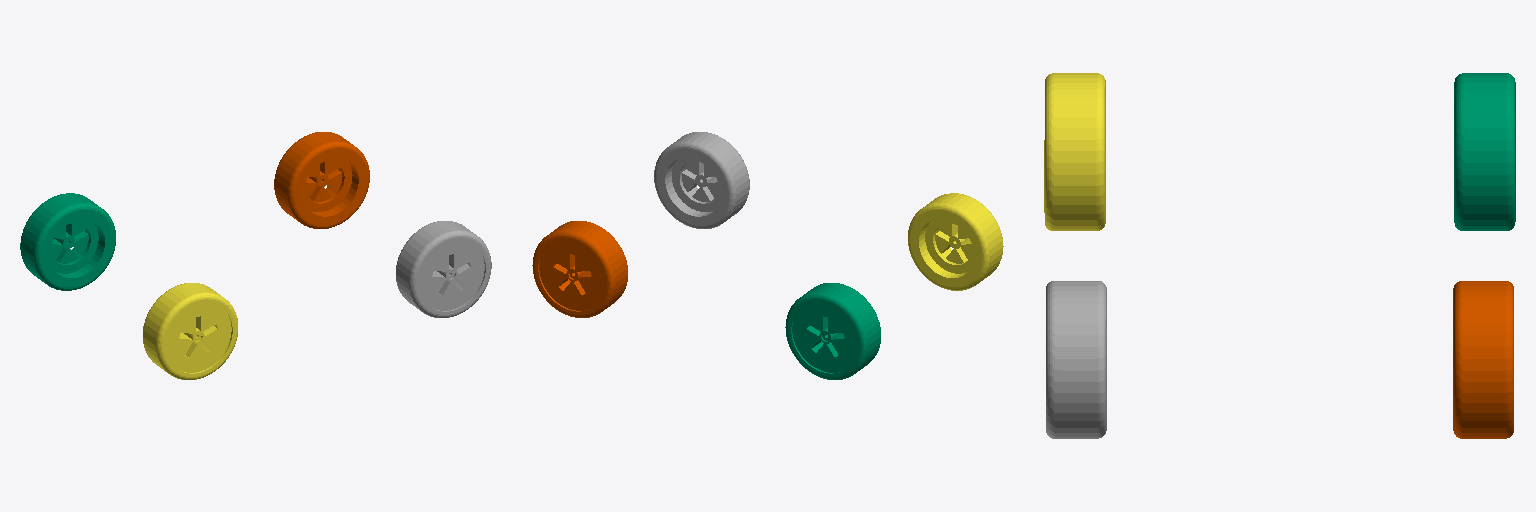
robot.urdf — macaroni:
<robot name="macaroni">

    <!--Car Links-->

    <link name="chassis">
        <inertial>
            <origin xyz="0.3 0 0"/>
            <mass value="5.0"/>
            <inertia ixx="0.10595165" ixy="-0.002487144" ixz="0.011981253" iyy="0.126271962" iyz="0.011832006" izz="0.033185337"/>
        </inertial>
        <visual>
            <origin rpy="0 0 0" xyz="0 0 0"/>
            <geometry>
                <mesh filename="package://rr_description/meshes/macaroni_car.dae"/>
            </geometry>
        </visual>
        <collision>
            <geometry>
                <mesh filename="package://rr_description/meshes/macaroni_car.dae"/>
            </geometry>
        </collision>
    </link>
    <gazebo reference="chassis">
        <material>Gazebo/Grey</material>
    </gazebo>


    <link name="back_axle">
        <inertial> <!--Null inertia-->
            <mass value="0.001"/>
            <inertia ixx="0.001" ixy="0" ixz="0" iyy="0.001" iyz="0" izz="0.001"/>
        </inertial>
    </link>

    <link name="wheel_back_left">
        <inertial>
            <origin rpy="0 0 0" xyz="0 0 0" />
            <mass value="0.1" />
            <inertia  ixx="0.000405599" ixy="0.0"  ixz="0.0"  iyy="0.000405599"  iyz="0.0"  izz="0.000518265" />
        </inertial>
        <visual>
            <origin rpy="0 0 0" xyz="0 0 0"/>
            <geometry>
                <mesh filename="package://rr_description/meshes/macaroni_wheel.dae"/>
            </geometry>
        </visual>
        <collision>
            <geometry>
                <mesh filename="package://rr_description/meshes/macaroni_wheel.dae"/>
            </geometry>
        </collision>
    </link>
    <gazebo reference="wheel_back_left">
        <mu1>0.7</mu1>
        <mu2>0.75</mu2>
        <material>Gazebo/Grey</material>
    </gazebo>


    <link name="wheel_back_right">
        <inertial>
            <origin rpy="0 0 0" xyz="0 0 0" />
            <mass value="0.1" />
            <inertia  ixx="0.000405599" ixy="0.0"  ixz="0.0"  iyy="0.000405599"  iyz="0.0"  izz="0.000518265" />
        </inertial>
        <visual>
            <origin rpy="0 0 3.14" xyz="0 0 0"/>
            <geometry>
                <mesh filename="package://rr_description/meshes/macaroni_wheel.dae"/>
            </geometry>
        </visual>
        <collision>
            <geometry>
                <mesh filename="package://rr_description/meshes/macaroni_wheel.dae"/>
            </geometry>
        </collision>
    </link>
    <gazebo reference="wheel_back_right">
        <mu1>0.7</mu1>
        <mu2>0.75</mu2>
        <material>Gazebo/Grey</material>
    </gazebo>


    <link name="steering_front_left">
        <inertial> <!--Null inertia-->
            <mass value="0.001"/>
            <inertia ixx="0.001" ixy="0" ixz="0" iyy="0.001" iyz="0" izz="0.001"/>
        </inertial>
    </link>

    <link name="wheel_front_left">
        <inertial>
            <origin xyz="0 0 0" />
            <mass value="0.1" />
            <inertia  ixx="0.000405599" ixy="0.0"  ixz="0.0"  iyy="0.000405599"  iyz="0.0"  izz="0.000518265" />
        </inertial>
        <visual>
            <origin rpy="0 0 0" xyz="0 0 0"/>
            <geometry>
                <mesh filename="package://rr_description/meshes/macaroni_wheel.dae"/>
            </geometry>
        </visual>
        <collision>
            <geometry>
                <mesh filename="package://rr_description/meshes/macaroni_wheel.dae"/>
            </geometry>
        </collision>
    </link>
    <gazebo reference="wheel_front_left">
        <mu1>0.7</mu1>
        <mu2>0.75</mu2>
        <material>Gazebo/Grey</material>
    </gazebo>

    <link name="steering_front_right">
        <inertial> <!--Null inertia-->
            <mass value="0.001"/>
            <inertia ixx="0.001" ixy="0" ixz="0" iyy="0.001" iyz="0" izz="0.001"/>
        </inertial>
    </link>

    <link name="wheel_front_right">
        <inertial>
            <origin xyz="0 0 0" />
            <mass value="0.1" />
            <inertia  ixx="0.000405599" ixy="0.0"  ixz="0.0"  iyy="0.000405599"  iyz="0.0"  izz="0.000518265" />
        </inertial>
        <visual>
            <origin rpy="0 0 3.14" xyz="0 0 0"/>
            <geometry>
                <mesh filename="package://rr_description/meshes/macaroni_wheel.dae"/>
            </geometry>
        </visual>
        <collision>
            <geometry>
                <mesh filename="package://rr_description/meshes/macaroni_wheel.dae"/>
            </geometry>
        </collision>
    </link>
    <gazebo reference="wheel_front_right">
        <mu1>0.7</mu1>
        <mu2>0.75</mu2>
        <material>Gazebo/Grey</material>
    </gazebo>


    <!--Sensor Links-->

    <link name="laser"/>
    <gazebo reference="laser">
        <sensor type="ray" name="lidar">
            <visualize>false</visualize>
            <update_rate>15</update_rate>
            <ray>
                <scan>
                    <horizontal>
                        <samples>270</samples>
                        <resolution>1</resolution>
                        <min_angle>-2.35619</min_angle>
                        <max_angle>2.35619</max_angle>
                    </horizontal>
                </scan>
                <range>
                    <min>0.05</min>
                    <max>8.00</max>
                    <resolution>0.02</resolution>
                </range>
            </ray>
            <plugin name="lidar_plugin" filename="libgazebo_ros_laser.so">
                <robotNamespace>/</robotNamespace>
                <topicName>/scan</topicName>
                <frameName>/laser</frameName>
            </plugin>
        </sensor>
    </gazebo>


    <link name="imu"/>
    <gazebo reference="imu">
        <gravity>true</gravity>
        <sensor name="imu_sensor" type="imu">
            <always_on>true</always_on>
            <update_rate>30</update_rate>
            <visualize>true</visualize>
            <topic>imu</topic>
            <plugin filename="libgazebo_ros_imu_sensor.so" name="imu_plugin">
                <topicName>imu</topicName>
                <bodyName>imu_link</bodyName>
                <updateRateHZ>30.0</updateRateHZ>
                <gaussianNoise>0.005</gaussianNoise>
                <xyzOffset>0 0 0</xyzOffset>
                <rpyOffset>0 0 0</rpyOffset>
                <frameName>imu_link</frameName>
            </plugin>
            <pose>0 0 0 0 0 0</pose>
        </sensor>
    </gazebo>

    <link name="camera_center">
        <inertial> <!--Null inertia-->
            <mass value="0.001"/>
            <inertia ixx="0.001" ixy="0" ixz="0" iyy="0.001" iyz="0" izz="0.001"/>
        </inertial>
    </link>
    <gazebo reference="camera_center">
        <sensor name="camera_sensor" type="camera">
            <camera>
                <horizontal_fov>1.02974<!-- 59 deg in rad --></horizontal_fov>
                <image>
                    <width>1280</width>
                    <height>964</height>
                    <format>R8G8B8</format>
                </image>
                <clip>
                    <near>0.05</near>
                    <far>100</far>
                </clip>
                <noise>
                  <type>gaussian</type>
                  <!-- Noise is sampled independently per pixel on each frame.
                       That pixel's noise value is added to each of its color
                       channels, which at that point lie in the range [0,1]. -->
                  <mean>0.0</mean>
                  <stddev>0.007</stddev>
                </noise>
            </camera>
            <always_on>true</always_on>
            <update_rate>30</update_rate>
            <plugin name="camera_controller" filename="libgazebo_ros_camera.so">
                <robotNamespace>/</robotNamespace>
                <baseline>0.1</baseline>
                <alwaysOn>true</alwaysOn>
                <updateRate>30.0</updateRate>
                <cameraName>camera_center</cameraName>
                <imageTopicName>image_raw</imageTopicName>
                <cameraInfoTopicName>camera_info</cameraInfoTopicName>
                <frameName>camera_optical_center</frameName>
                <distortionK1>0.00000001</distortionK1>
                <distortionK2>0.00000001</distortionK2>
                <distortionK3>0.00000001</distortionK3>
                <distortionT1>0.00000001</distortionT1>
                <distortionT2>0.00000001</distortionT2>
            </plugin>
        </sensor>
    </gazebo>

    <link name="camera_optical_center"/>

    <link name="camera_left">
        <inertial> <!--Null inertia-->
            <mass value="0.001"/>
            <inertia ixx="0.001" ixy="0" ixz="0" iyy="0.001" iyz="0" izz="0.001"/>
        </inertial>
    </link>
    <gazebo reference="camera_left">
        <sensor name="camera_sensor" type="camera">
            <camera>
                <horizontal_fov>1.02974<!-- 59 deg in rad --></horizontal_fov>
                <image>
                    <width>640</width>
                    <height>480</height>
                    <format>R8G8B8</format>
                </image>
                <clip>
                    <near>0.05</near>
                    <far>100</far>
                </clip>
                <noise>
                  <type>gaussian</type>
                  <!-- Noise is sampled independently per pixel on each frame.
                       That pixel's noise value is added to each of its color
                       channels, which at that point lie in the range [0,1]. -->
                  <mean>0.0</mean>
                  <stddev>0.007</stddev>
                </noise>
            </camera>
            <always_on>true</always_on>
            <update_rate>30</update_rate>
            <plugin name="camera_controller" filename="libgazebo_ros_camera.so">
                <robotNamespace>/</robotNamespace>
                <baseline>0.1</baseline>
                <alwaysOn>true</alwaysOn>
                <updateRate>30.0</updateRate>
                <cameraName>camera_left</cameraName>
                <imageTopicName>image_raw</imageTopicName>
                <cameraInfoTopicName>camera_info</cameraInfoTopicName>
                <frameName>camera_optical_left</frameName>
                <distortionK1>0.00000001</distortionK1>
                <distortionK2>0.00000001</distortionK2>
                <distortionK3>0.00000001</distortionK3>
                <distortionT1>0.00000001</distortionT1>
                <distortionT2>0.00000001</distortionT2>
            </plugin>
        </sensor>
    </gazebo>

    <link name="camera_optical_left"/>

    <link name="camera_right">
        <inertial> <!--Null inertia-->
            <mass value="0.001"/>
            <inertia ixx="0.001" ixy="0" ixz="0" iyy="0.001" iyz="0" izz="0.001"/>
        </inertial>
    </link>
    <gazebo reference="camera_left">
        <sensor name="camera_sensor" type="camera">
            <camera>
                <horizontal_fov>1.02974<!-- 59 deg in rad --></horizontal_fov>
                <image>
                    <width>640</width>
                    <height>480</height>
                    <format>R8G8B8</format>
                </image>
                <clip>
                    <near>0.05</near>
                    <far>100</far>
                </clip>
                <noise>
                  <type>gaussian</type>
                  <!-- Noise is sampled independently per pixel on each frame.
                       That pixel's noise value is added to each of its color
                       channels, which at that point lie in the range [0,1]. -->
                  <mean>0.0</mean>
                  <stddev>0.007</stddev>
                </noise>
            </camera>
            <always_on>true</always_on>
            <update_rate>30</update_rate>
            <plugin name="camera_controller" filename="libgazebo_ros_camera.so">
                <robotNamespace>/</robotNamespace>
                <baseline>0.1</baseline>
                <alwaysOn>true</alwaysOn>
                <updateRate>30.0</updateRate>
                <cameraName>camera_right</cameraName>
                <imageTopicName>image_raw</imageTopicName>
                <cameraInfoTopicName>camera_info</cameraInfoTopicName>
                <frameName>camera_optical_right</frameName>
                <distortionK1>0.00000001</distortionK1>
                <distortionK2>0.00000001</distortionK2>
                <distortionK3>0.00000001</distortionK3>
                <distortionT1>0.00000001</distortionT1>
                <distortionT2>0.00000001</distortionT2>
            </plugin>
        </sensor>
    </gazebo>

    <link name="camera_optical_right"/>


    <link name="base_footprint">
        <inertial> <!--Null inertia-->
            <mass value="0.001"/>
            <inertia ixx="0.001" ixy="0" ixz="0" iyy="0.001" iyz="0" izz="0.001"/>
        </inertial>
    </link>



    <!--Joints-->

    <joint name="base_footprint_to_chassis" type="fixed">
        <parent link="base_footprint"/>
        <child link="chassis"/>
        <origin xyz="0 0 0.036" rpy="0 0 0"/>
    </joint>

    <joint name="chassis_to_back_axle" type="fixed">
        <parent link="chassis"/>
        <child link="back_axle"/>
        <origin xyz="0 0 0" rpy="0 0 0"/>
    </joint>

    <joint name="axle_to_left_wheel" type="continuous">
        <parent link="back_axle"/>
        <child link="wheel_back_left"/>
        <origin xyz="0 0.14439 0" rpy="0 0 0"/>
        <axis xyz="0 1 0"/>
    </joint>
    <joint name="axle_to_right_wheel" type="continuous">
        <parent link="back_axle"/>
        <child link="wheel_back_right"/>
        <origin xyz="0 -0.14439 0" rpy="0 0 0"/>
        <axis xyz="0 1 0"/>
    </joint>

    <joint name="chassis_to_left_steering" type="revolute">
        <parent link="chassis"/>
        <child link="steering_front_left"/>
        <origin xyz="0.34 0.14366 0" rpy="0 0 0"/>
        <axis xyz="0 0 1"/>
        <limit lower="-0.366519" upper="0.366519" effort="100000.0" velocity="1000000.0"/>
    </joint>
    <joint name="left_steering_to_wheel" type="continuous">
        <parent link="steering_front_left"/>
        <child link="wheel_front_left"/>
        <origin xyz="0 0 0" rpy="0 0 0"/>
        <axis xyz="0 1 0"/>
    </joint>

    <joint name="chassis_to_right_steering" type="revolute">
        <parent link="chassis"/>
        <child link="steering_front_right"/>
        <origin xyz="0.34 -0.14366 0" rpy="0 0 0"/>
        <axis xyz="0 0 1"/>
        <limit lower="-0.366519" upper="0.366519" effort="1000.0" velocity="1000.0"/>
    </joint>
    <joint name="right_steering_to_wheel" type="continuous">
        <parent link="steering_front_right"/>
        <child link="wheel_front_right"/>
        <origin xyz="0 0 0" rpy="0 0 0"/>
        <axis xyz="0 1 0"/>
    </joint>


    <joint name="camera_joint_center" type="fixed">
        <parent link="chassis"/>
        <child link="camera_center"/>
        <origin xyz="0.21793 0 0.22" rpy="0 0 0"/>
    </joint>

    <joint name="camera_optical_joint_center" type="fixed">
        <parent link="camera_center"/>
        <child link="camera_optical_center"/>
        <origin xyz="0 0 0" rpy="-1.5708 0 -1.5708"/>
    </joint>

    <joint name="camera_joint_left" type="fixed">
        <parent link="chassis"/>
        <child link="camera_left"/>
        <origin xyz="0.21793 0 0.22" rpy="0 0 0"/>
    </joint>

    <joint name="camera_optical_joint_left" type="fixed">
        <parent link="camera_left"/>
        <child link="camera_optical_left"/>
        <origin xyz="0 0 0" rpy="-1.5708 0 -1.5708"/>
    </joint>

    <joint name="camera_joint_right" type="fixed">
        <parent link="chassis"/>
        <child link="camera_right"/>
        <origin xyz="0.21793 0 0.22" rpy="0 0 0"/>
    </joint>

    <joint name="camera_optical_joint_right" type="fixed">
        <parent link="camera_right"/>
        <child link="camera_optical_right"/>
        <origin xyz="0 0 0" rpy="-1.5708 0 -1.5708"/>
    </joint>

    <joint name="lidar_joint" type="fixed">
        <parent link="chassis"/>
        <child link="laser"/>
        <origin xyz="0.275 0 0.110" rpy="0 0 0"/>
    </joint>

    <joint name="imu" type="fixed">
        <parent link="chassis"/>
        <child link="imu"/>
        <origin xyz="0 0 0.1778" rpy="0 0 0"/>
    </joint>


    <!--Actuators-->

    <gazebo>
        <plugin name="gazebo_ros_control" filename="libgazebo_ros_control.so">
            <robotNamespace>/</robotNamespace>
        </plugin>
    </gazebo>

    <transmission name="trans_back_left">
        <type>transmission_interface/SimpleTransmission</type>
        <joint name="axle_to_left_wheel">
            <hardwareInterface>hardware_interface/EffortJointInterface</hardwareInterface>
        </joint>
        <actuator name="motor_left">
            <hardwareInterface>hardware_interface/EffortJointInterface</hardwareInterface>
            <mechanicalReduction>1</mechanicalReduction>
        </actuator>
    </transmission>

    <transmission name="trans_back_right">
        <type>transmission_interface/SimpleTransmission</type>
        <joint name="axle_to_right_wheel">
            <hardwareInterface>hardware_interface/EffortJointInterface</hardwareInterface>
        </joint>
        <actuator name="motor_right">
            <hardwareInterface>hardware_interface/EffortJointInterface</hardwareInterface>
            <mechanicalReduction>1</mechanicalReduction>
        </actuator>
    </transmission>

    <transmission name="left_steering_trans">
        <type>transmission_interface/SimpleTransmission</type>
        <joint name="chassis_to_left_steering">
            <hardwareInterface>hardware_interface/EffortJointInterface</hardwareInterface>
        </joint>
        <actuator name="left_steer_motor">
            <hardwareInterface>hardware_interface/EffortJointInterface</hardwareInterface>
            <mechanicalReduction>1</mechanicalReduction>
        </actuator>
    </transmission>

    <transmission name="right_steering_trans">
        <type>transmission_interface/SimpleTransmission</type>
        <joint name="chassis_to_right_steering">
            <hardwareInterface>hardware_interface/EffortJointInterface</hardwareInterface>
        </joint>
        <actuator name="right_steer_motor">
            <hardwareInterface>hardware_interface/EffortJointInterface</hardwareInterface>
            <mechanicalReduction>1</mechanicalReduction>
        </actuator>
    </transmission>

</robot>

--- Facts derived from the render (not from the file) ---
3 views of the same robot in one strip: view 1: azimuth 30°, elevation 25°; view 2: azimuth 150°, elevation 25°; view 3: azimuth 270°, elevation 25° (orthographic).
Model macaroni with 17 links and 16 joints (2 revolute, 4 continuous, 10 fixed), rooted at base_footprint, posed every joint at zero.
Links seen in each view (by area): view 1: wheel_front_right, wheel_back_left, wheel_back_right, wheel_front_left; view 2: wheel_front_left, wheel_back_left, wheel_front_right, wheel_back_right; view 3: wheel_back_left, wheel_back_right, wheel_front_right, wheel_front_left.
Boxes of the visible links, box(x1,y1,x2,y2) form: wheel_front_right: box(396, 221, 491, 317); wheel_back_left: box(20, 193, 115, 290); wheel_back_right: box(143, 283, 237, 379); wheel_front_left: box(274, 132, 369, 228); wheel_front_left: box(532, 221, 627, 317); wheel_back_left: box(785, 283, 880, 379); wheel_front_right: box(654, 132, 749, 228); wheel_back_right: box(908, 193, 1003, 290); wheel_back_left: box(1454, 73, 1515, 230); wheel_back_right: box(1044, 73, 1105, 230); wheel_front_right: box(1046, 281, 1106, 438); wheel_front_left: box(1453, 281, 1513, 438).
Size in the robot's own frame: 0.4497 by 0.3264 by 0.1094 metres.
4 mesh visuals loaded from 2 distinct referenced files (1 Collada DAE); not drawn: 1 (reference not matched to a file when rendering).
